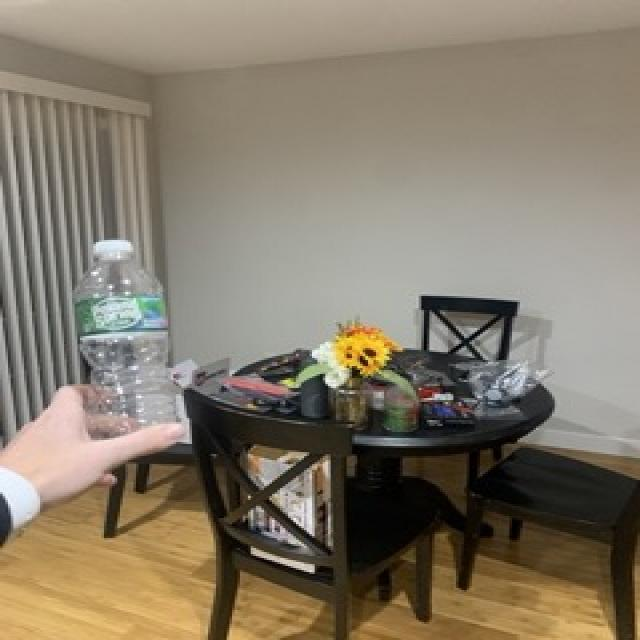water_bottle: (69, 236, 185, 459)
